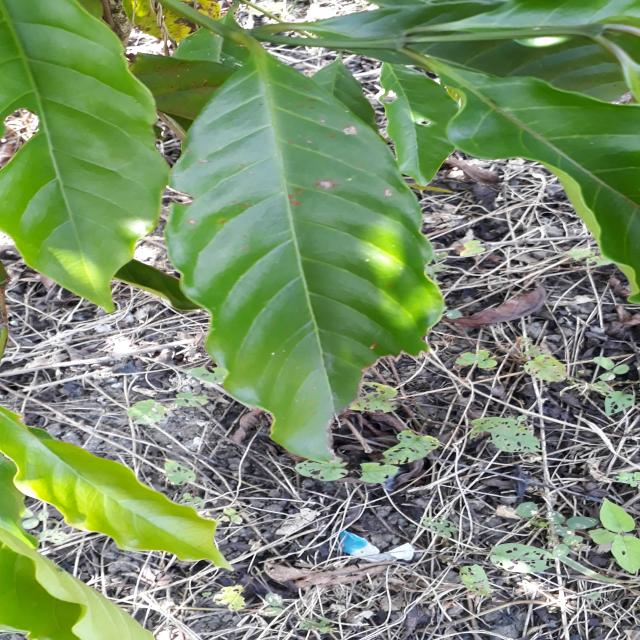Plaga-AranaRoja: (152, 51, 444, 464)
